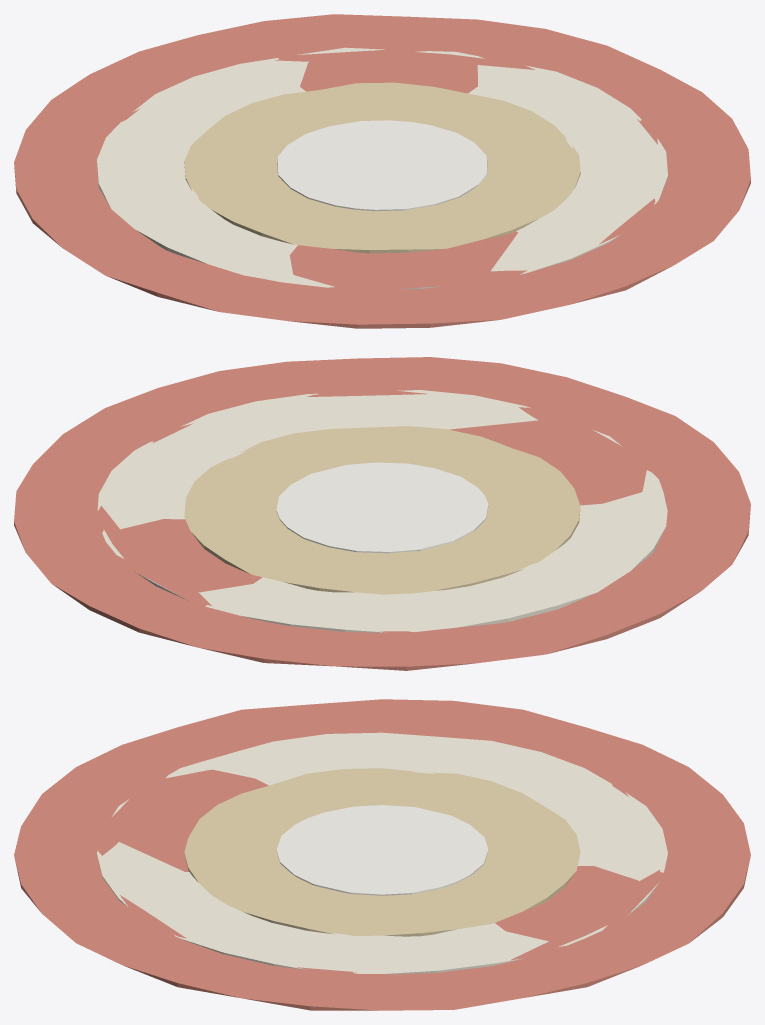
File: 18-Casas_alfombra.glb
3 views of the same model, one above another, from view 1: azimuth 30°, elevation 25°; view 2: azimuth 150°, elevation 25°; view 3: azimuth 270°, elevation 25° (orthographic).
Parts seen in each view (by area): view 1: SM_Alfombra_M_Mueble_Tela_Roja, SM_Alfombra_M_Mueble_Tela_Crema, SM_Alfombra_M_Mueble_Paja, SM_Alfombra_M_Mueble_Lino; view 2: SM_Alfombra_M_Mueble_Tela_Roja, SM_Alfombra_M_Mueble_Tela_Crema, SM_Alfombra_M_Mueble_Paja, SM_Alfombra_M_Mueble_Lino; view 3: SM_Alfombra_M_Mueble_Tela_Roja, SM_Alfombra_M_Mueble_Tela_Crema, SM_Alfombra_M_Mueble_Paja, SM_Alfombra_M_Mueble_Lino.
Part boxes in pixels (box(x1,y1,x2,y2)): SM_Alfombra_M_Mueble_Tela_Roja: box(14, 14, 750, 328); SM_Alfombra_M_Mueble_Tela_Crema: box(97, 47, 667, 289); SM_Alfombra_M_Mueble_Paja: box(184, 82, 580, 253); SM_Alfombra_M_Mueble_Lino: box(277, 120, 487, 210); SM_Alfombra_M_Mueble_Tela_Roja: box(14, 357, 750, 670); SM_Alfombra_M_Mueble_Tela_Crema: box(97, 390, 667, 632); SM_Alfombra_M_Mueble_Paja: box(184, 426, 580, 594); SM_Alfombra_M_Mueble_Lino: box(276, 462, 488, 553); SM_Alfombra_M_Mueble_Tela_Roja: box(14, 699, 750, 1010); SM_Alfombra_M_Mueble_Tela_Crema: box(97, 732, 667, 974); SM_Alfombra_M_Mueble_Paja: box(184, 768, 580, 936); SM_Alfombra_M_Mueble_Lino: box(276, 805, 488, 895).
Bounding box in the file's own units: 3.2 × 0.038 × 3.2.
